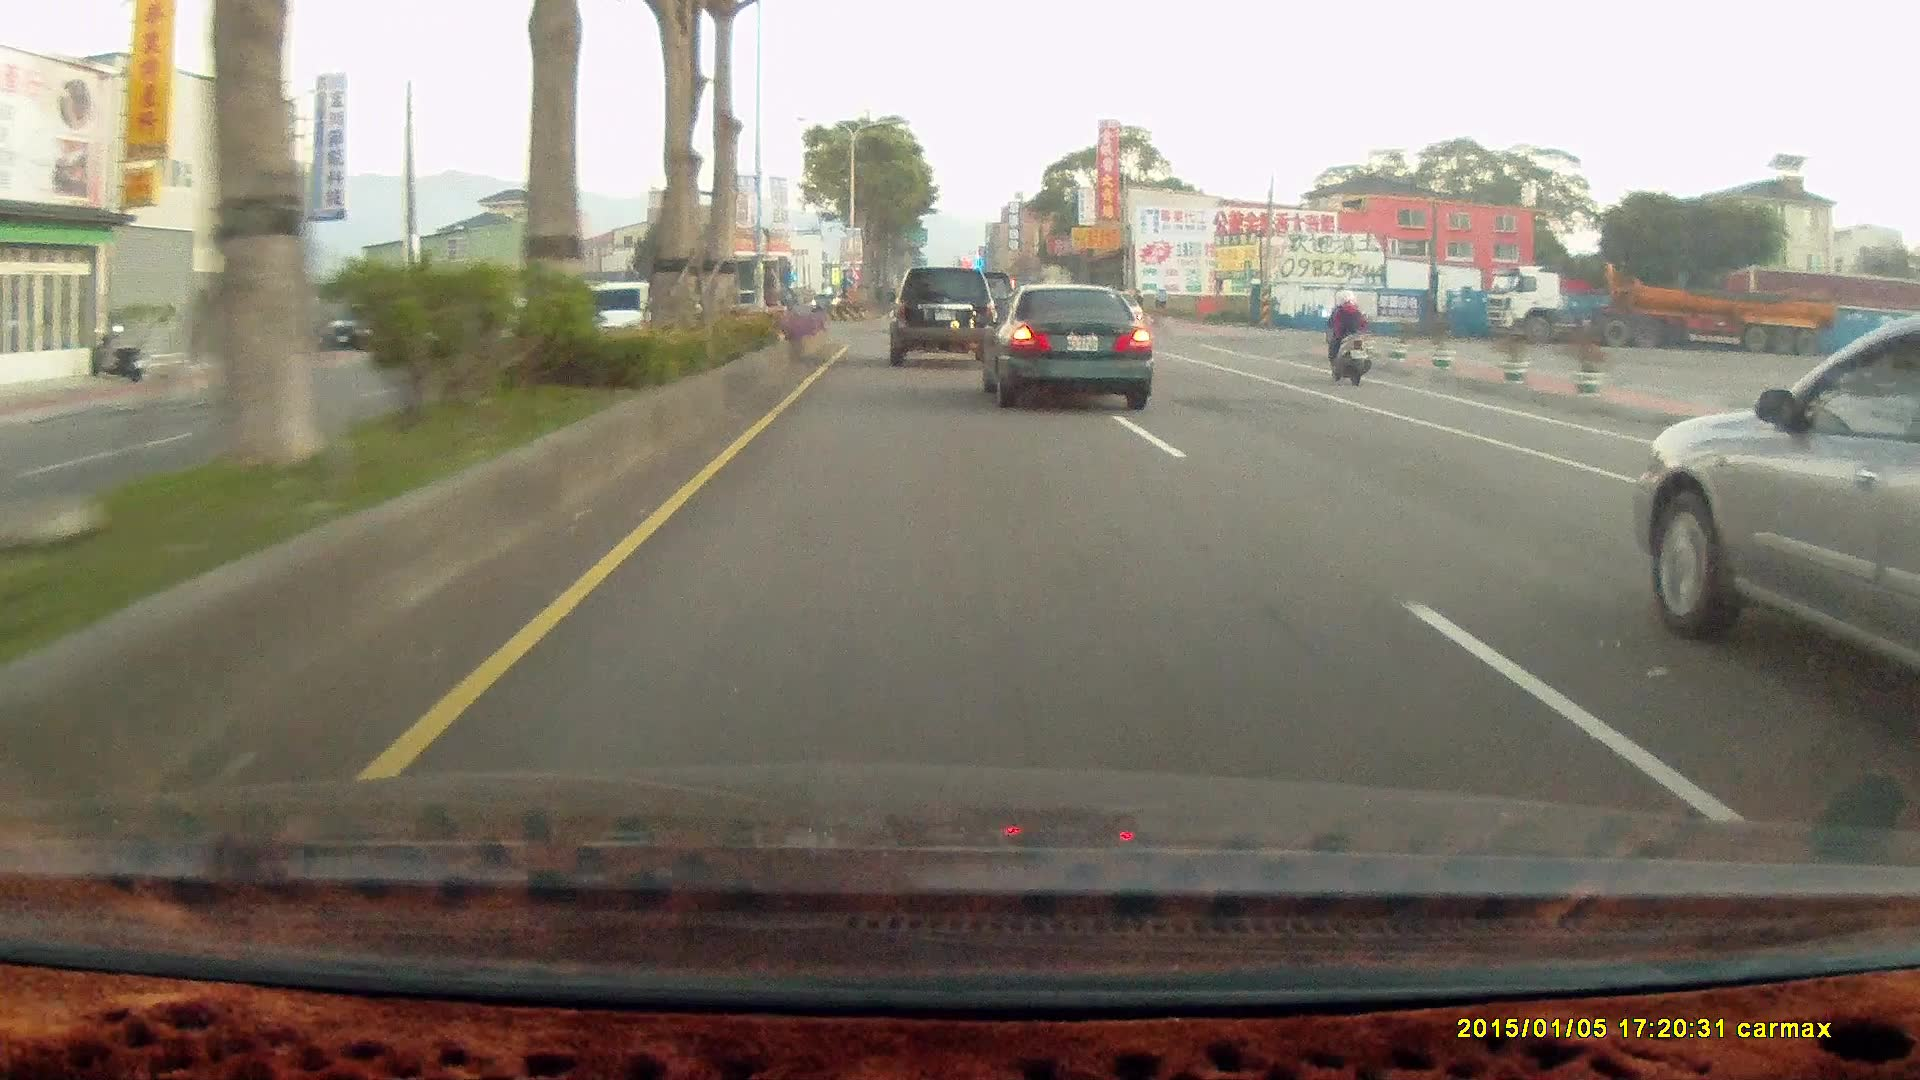rider: (1316, 286, 1380, 389), (1316, 290, 1372, 386)
vehicle: (1640, 307, 1920, 697), (1481, 266, 1833, 355), (975, 280, 1152, 409), (979, 288, 1150, 410), (882, 272, 993, 373), (889, 265, 999, 367), (569, 278, 677, 359), (321, 303, 401, 352)
